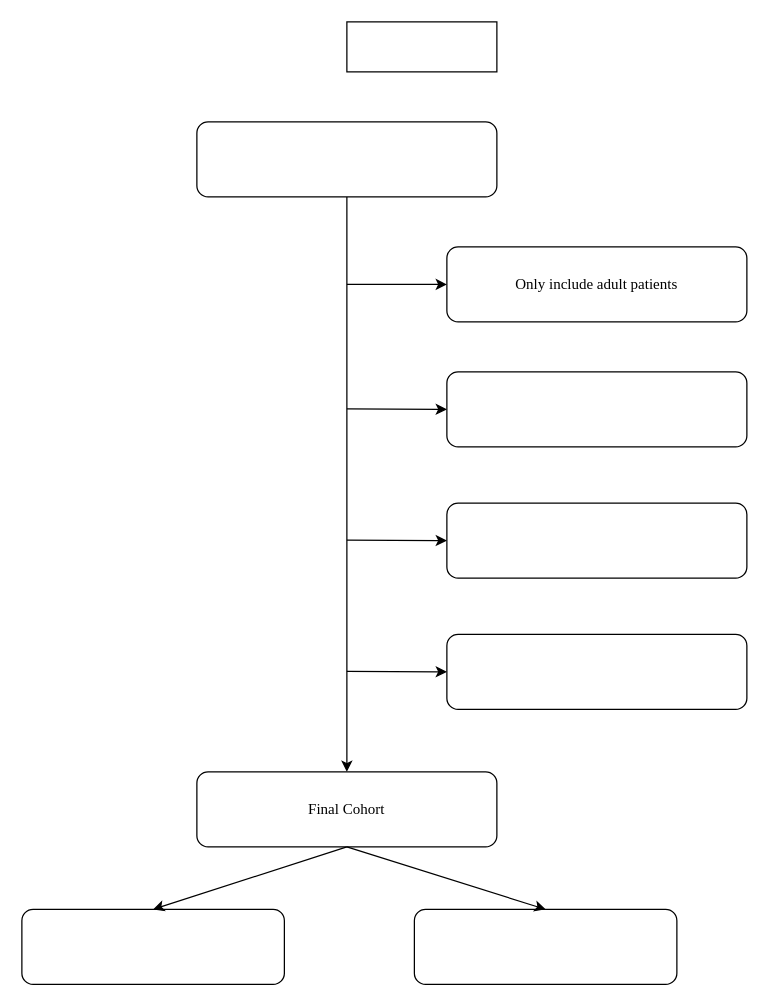
Image size: 769x1006. Some labels were removed from this diagram. The centre of each missing label's shape, as x and y in pixels:
"IBD patients from MIMIC-IV based on ICD code (version 9)" goes at point 346,159.
"Raw Dataset" goes at point 421,46.
